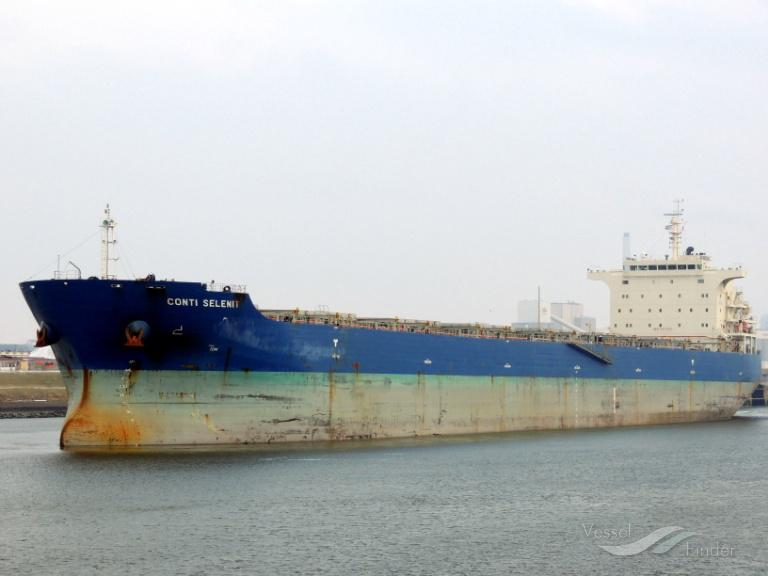OCR: (157, 291, 253, 321)
